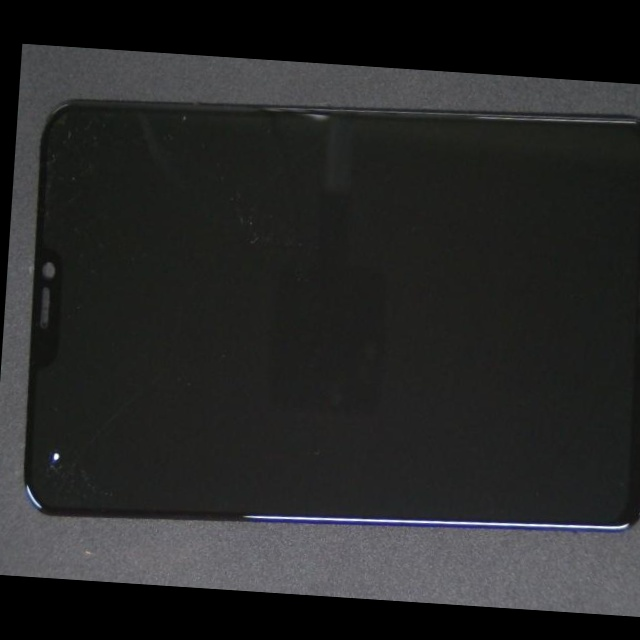stain: (20, 227, 92, 579)
